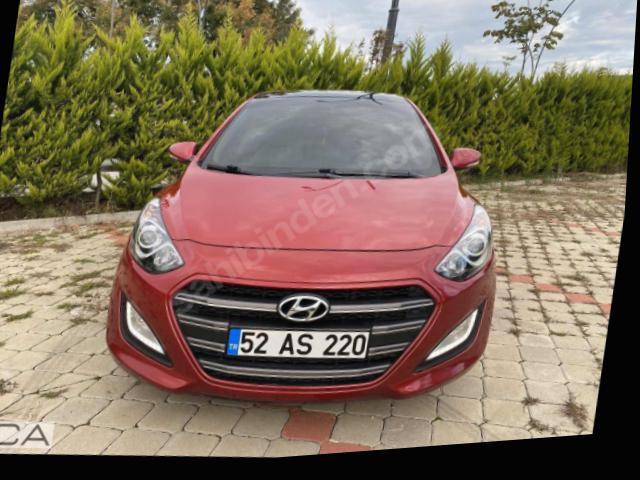plaka: (227, 328, 370, 358)
